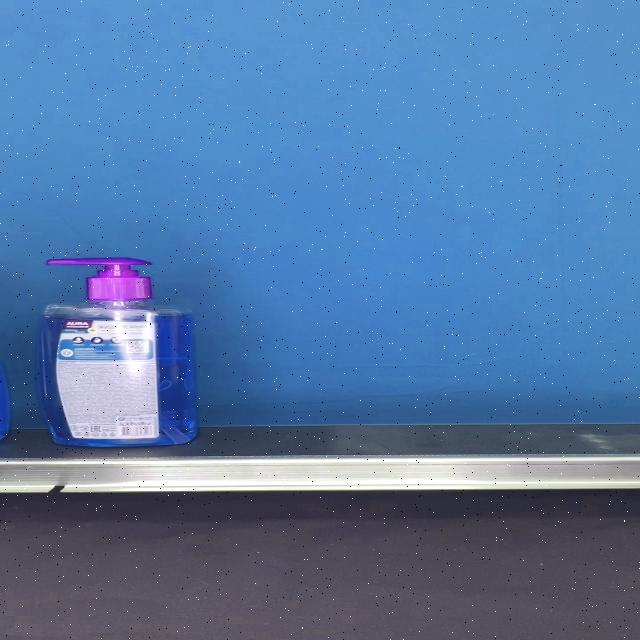Bottle: (36, 260, 198, 448)
Cap: (46, 260, 150, 302)
